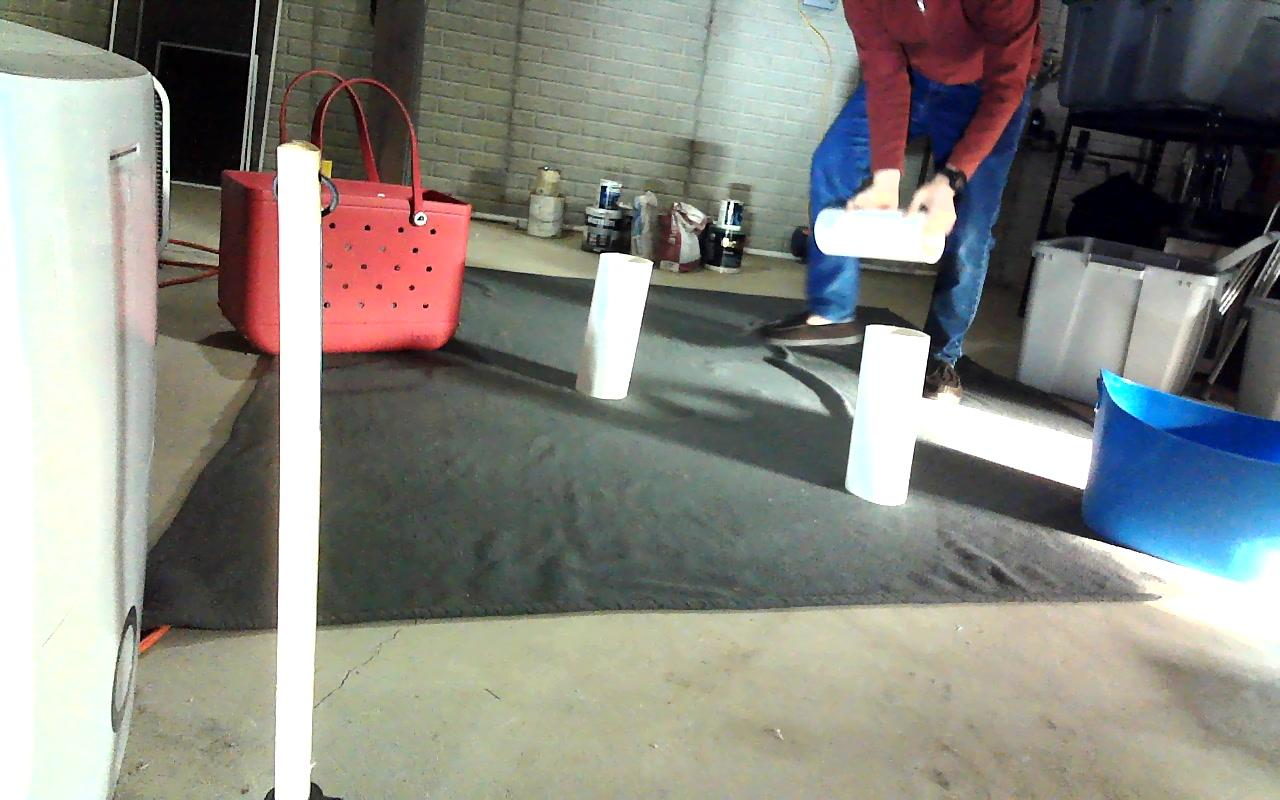coral: (845, 323, 927, 504), (586, 253, 650, 400), (815, 205, 945, 264)
